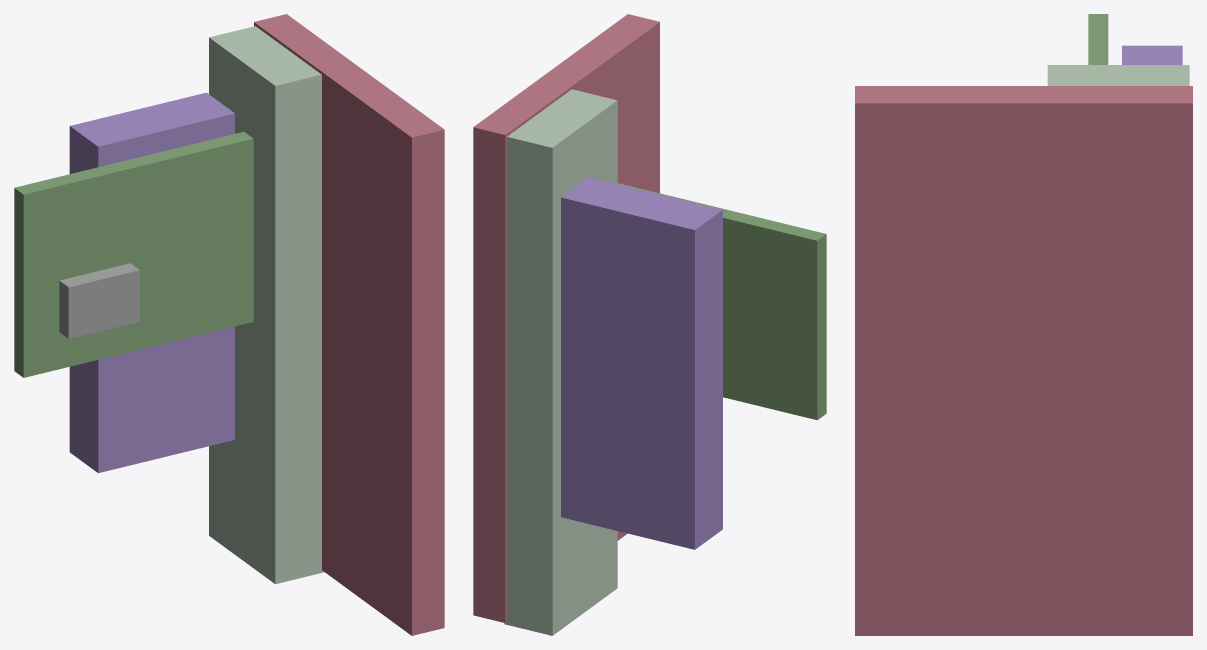
The picture shows the model from 3 angles, left to right: view 1: azimuth 30°, elevation 25°; view 2: azimuth 150°, elevation 25°; view 3: azimuth 270°, elevation 25°; orthographic projection. The views are drawn at different scales.
Parts seen in each view (by area): view 1: world; view 2: world; view 3: world.
Part boxes in pixels (left/top/right/bottom): world: left=14, top=14, right=444, bottom=635; world: left=473, top=14, right=826, bottom=635; world: left=855, top=14, right=1192, bottom=635.
Size of the model in its own units: 5.7 by 8.75 by 5.
